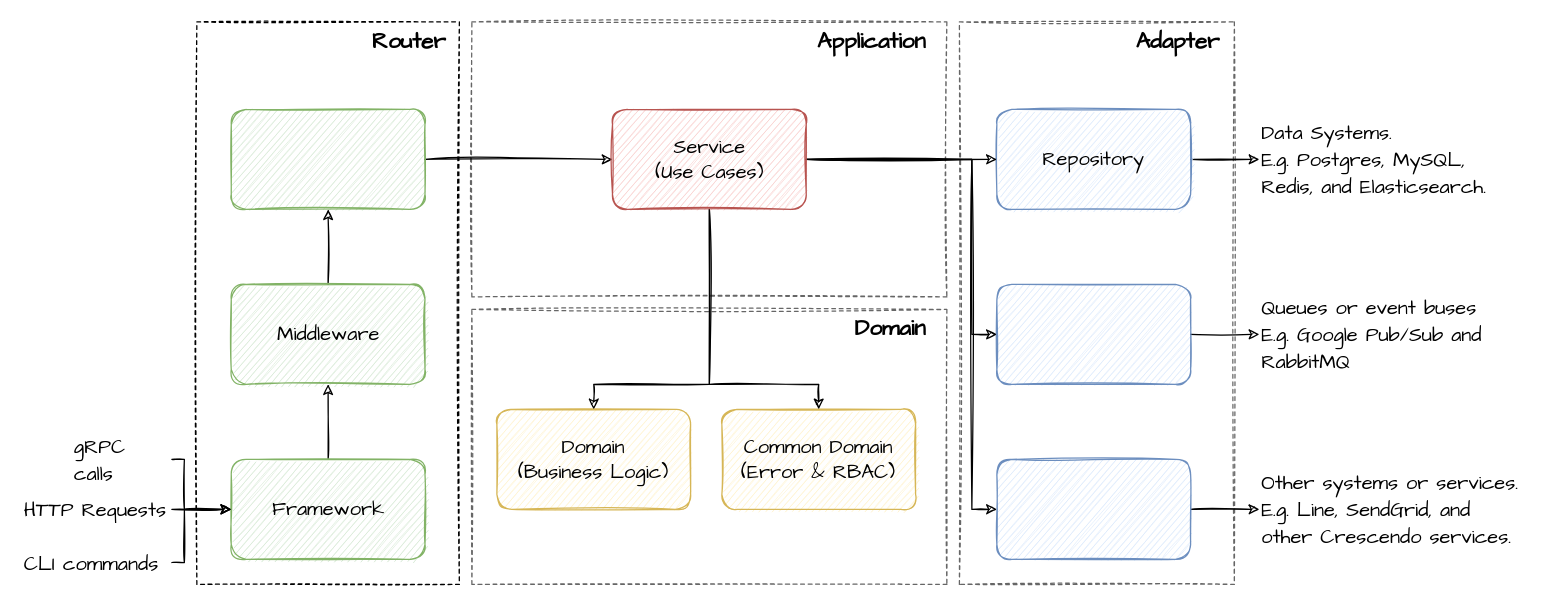
Some shapes in this 1543 by 606 pixel diagram are drawn without their labels. The shapes that lost their labels are listed below. From the top down, each one's centre as x and y in pixels, then its label:
At [327,158]: "Handler".
At [1093,333]: "Event Broker".
At [1093,508]: "Server".
